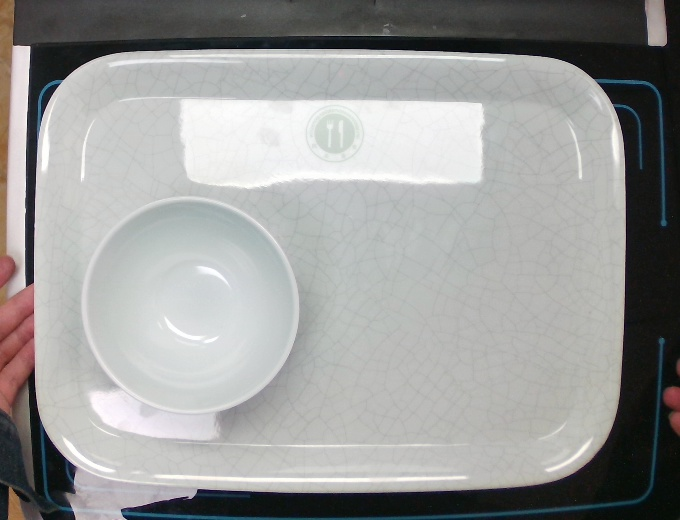JYsf-Fan_Wan: (80, 196, 303, 412)
